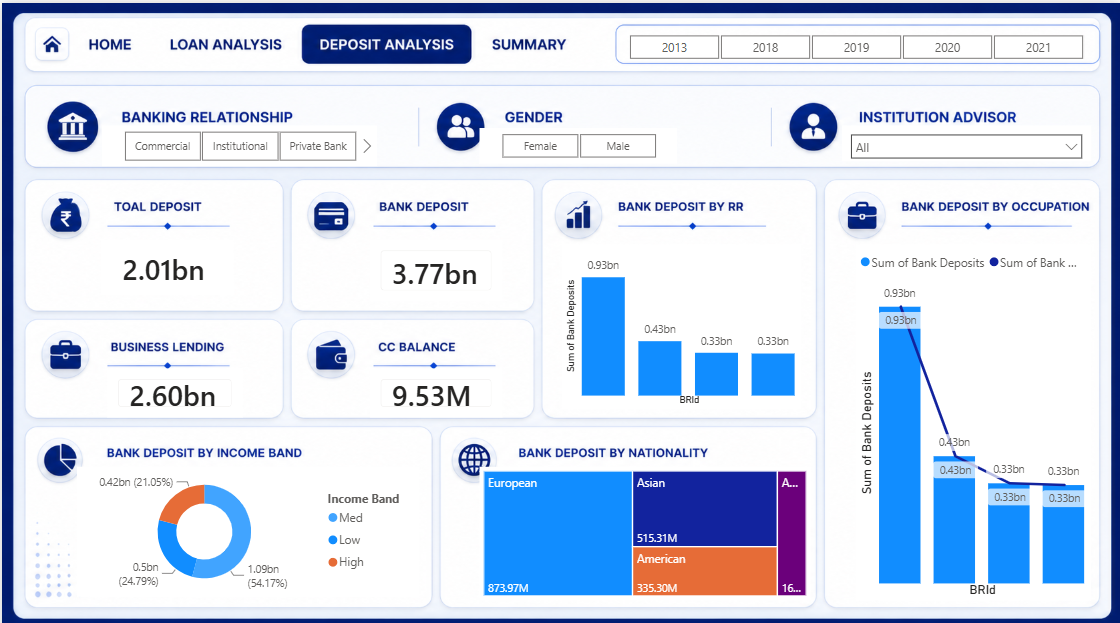

The page's visual inventory and layout, read from the dashboard file:
{"tool":"powerbi","page":{"name":"Deposit Analysis","canvas":[1280,720],"ordinal":2},"visuals":[{"type":"actionButton","box":[16,24.5,99.4,40.5],"z":0},{"type":"actionButton","box":[545.7,22.9,131.4,41.4],"z":1000},{"type":"actionButton","box":[305.5,24.5,214.7,40.5],"z":2000},{"type":"cardVisual","fields":{"Data":["Sum(Banking.Bank Deposits)"]},"box":[109.2,265,162,73.6],"z":3000},{"type":"cardVisual","fields":{"Data":["Banking.Total Deposit"]},"box":[416,265,162,81],"z":4000},{"type":"cardVisual","fields":{"Data":["Sum(Banking.Business Lending)"]},"box":[115.3,413.5,164.4,66.3],"z":5000},{"type":"cardVisual","fields":{"Data":["Sum(Banking.Credit Card Balance)"]},"box":[416,413.5,162,66.3],"z":6000},{"type":"slicer","fields":{"Values":["Banking.Year of JoiN"]},"box":[692,29.4,568.1,40.5],"z":7000},{"type":"donutChart","fields":{"Category":["Banking.Income Band"],"Y":["Sum(Banking.Bank Deposits)"]},"box":[85.9,530.1,391.4,148.5],"z":8000},{"type":"clusteredColumnChart","fields":{"Category":["Banking.BRId"],"Y":["Sum(Banking.Bank Deposits)"]},"box":[640.5,276.1,273.6,189],"z":9000},{"type":"treemap","fields":{"Group":["Banking.Nationality"],"Values":["Sum(Banking.Bank Deposits)"]},"box":[545.7,530,378.6,152.9],"z":10000},{"type":"slicer","fields":{"Values":["Banking.BRId"]},"box":[114.1,139.9,314.1,46.6],"z":11000},{"type":"slicer","fields":{"Values":["Banking.GenderId"]},"box":[546,143.6,225.8,40.5],"z":12000},{"type":"slicer","fields":{"Values":["Banking.IAId"]},"box":[959.5,139.9,284.7,40.5],"z":13000},{"type":"lineStackedColumnComboChart","fields":{"Category":["Banking.BRId"],"Y":["Sum(Banking.Bank Deposits)"],"Y2":["Sum(Banking.Bank Deposits)"]},"box":[975.5,276.1,268.7,407.4],"z":14000},{"type":"actionButton","box":[336.2,19.6,209.8,50.3],"z":15000},{"type":"actionButton","box":[35.7,24.3,125.7,45.7],"z":16000},{"type":"actionButton","box":[174.3,24.3,148.6,40],"z":17000}]}

Visuals, with their boxes in screenshot pixels (x1, y1, x2, y2), scaled from the page's 1280x720 canvas onto the 1120x623 screenshot:
actionButton: 14 21 101 56
actionButton: 477 20 592 56
actionButton: 267 21 455 56
cardVisual - Sum(Banking.Bank Deposits): 96 229 237 293
cardVisual - Banking.Total Deposit: 364 229 506 299
cardVisual - Sum(Banking.Business Lending): 101 358 245 415
cardVisual - Sum(Banking.Credit Card Balance): 364 358 506 415
slicer - Banking.Year of JoiN: 606 25 1103 60
donutChart - Banking.Income Band x Sum(Banking.Bank Deposits): 75 459 418 587
clusteredColumnChart - Banking.BRId x Sum(Banking.Bank Deposits): 560 239 800 402
treemap - Banking.Nationality x Sum(Banking.Bank Deposits): 477 459 809 591
slicer - Banking.BRId: 100 121 375 161
slicer - Banking.GenderId: 478 124 675 159
slicer - Banking.IAId: 840 121 1089 156
lineStackedColumnComboChart - Banking.BRId x Sum(Banking.Bank Deposits): 854 239 1089 591
actionButton: 294 17 478 60
actionButton: 31 21 141 61
actionButton: 153 21 283 56
